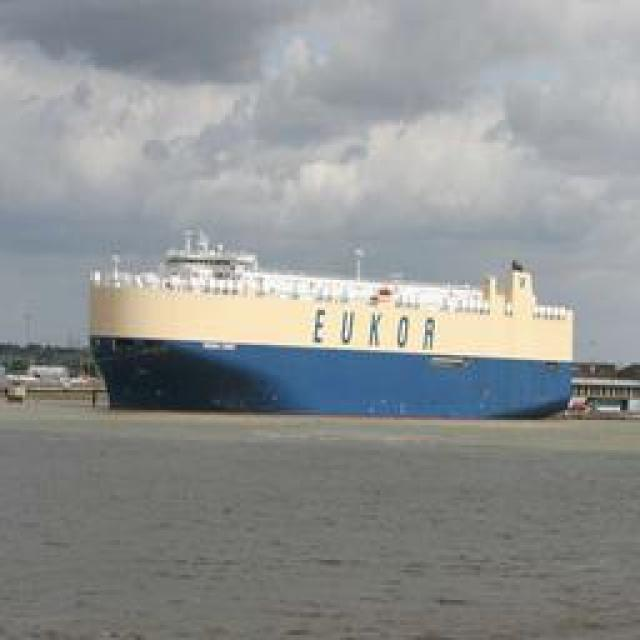CIV_Ship: (90, 231, 602, 414)
